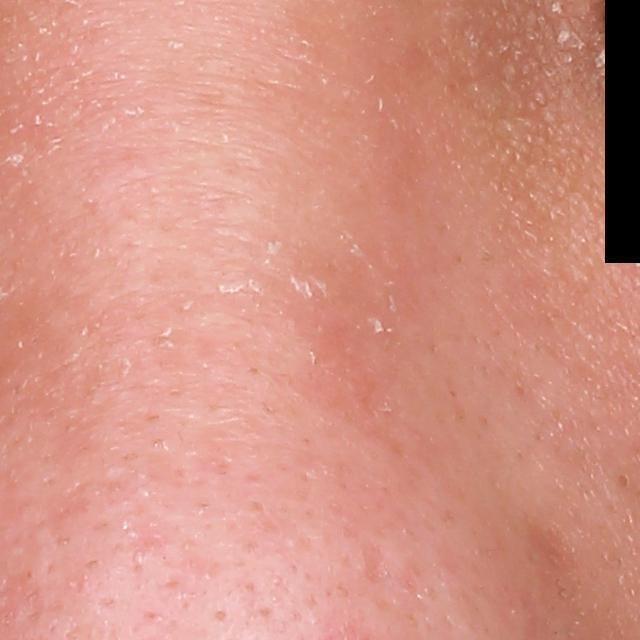atrophic_scar: (361, 544, 391, 585)
comedo: (612, 472, 628, 492)
